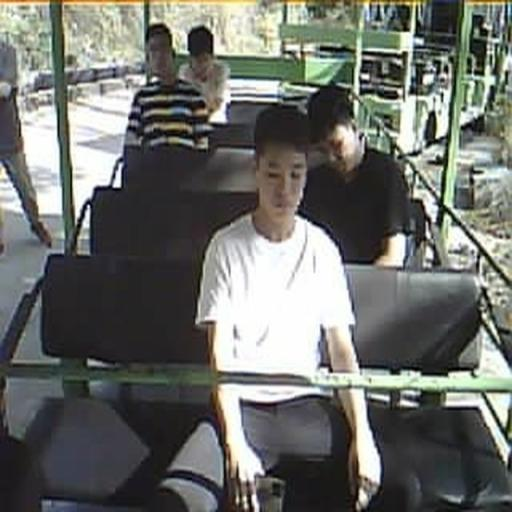persona: (152, 103, 384, 510), (298, 84, 413, 268), (122, 22, 216, 160), (174, 26, 232, 120)
